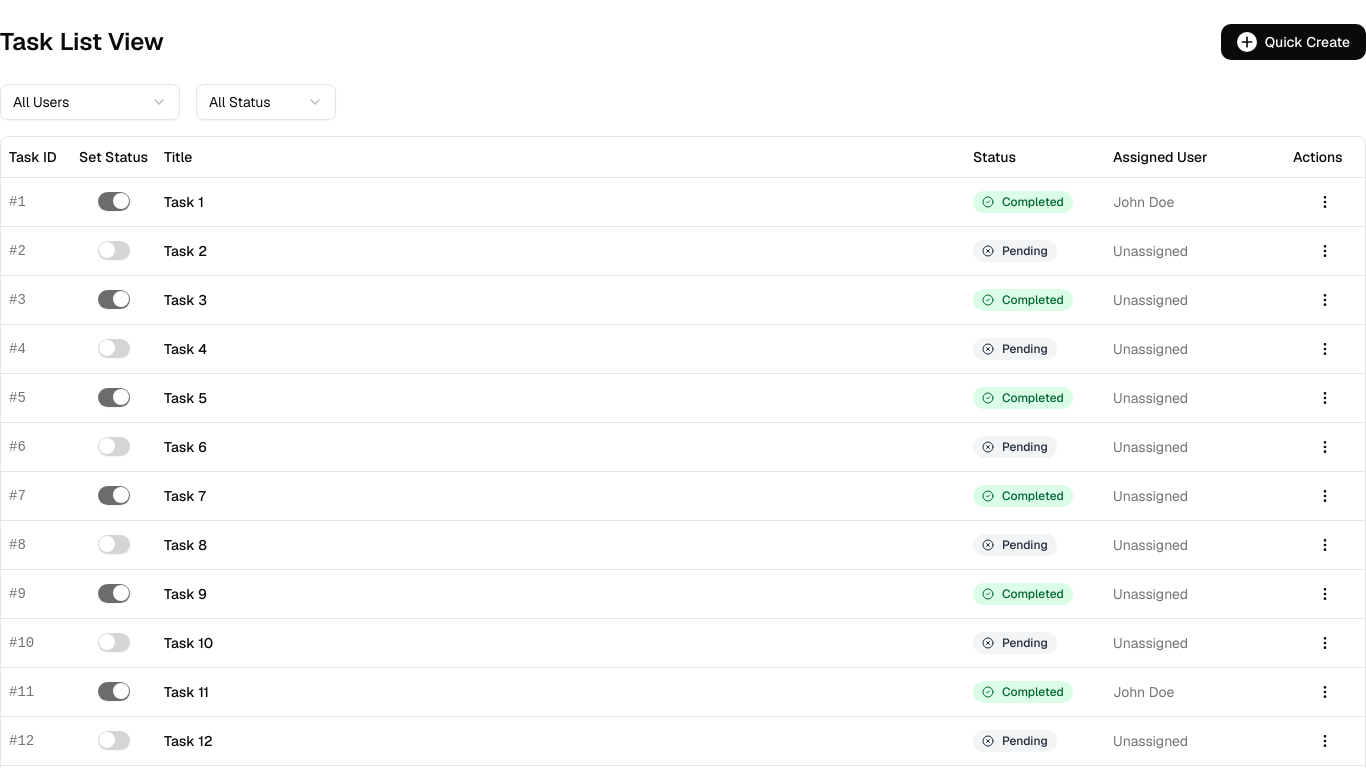
Test: TaskTable › should show delete dialog when delete is clicked
Step 1. Click the button named "Actions for task 1" → {"x": 1325, "y": 202}, box [1309,186,1341,218]
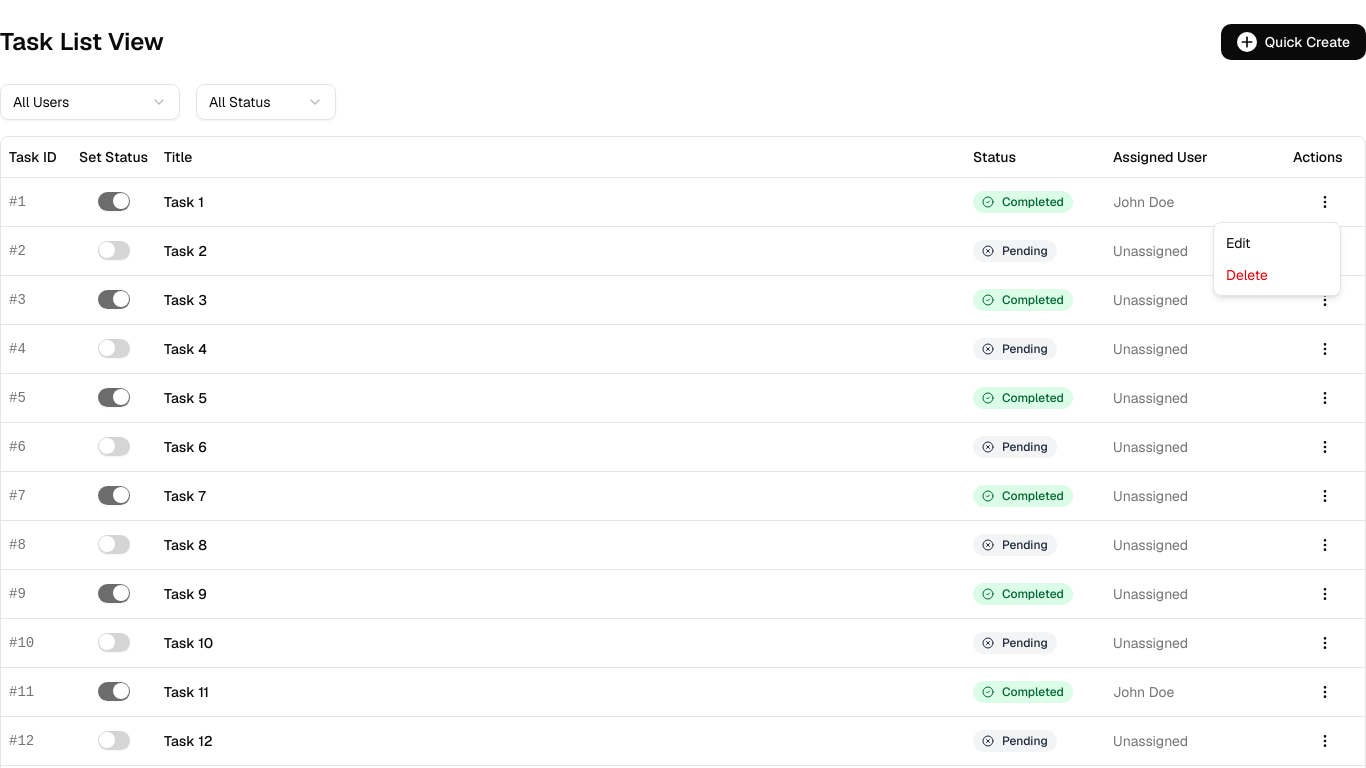
Step 2. Click the menu item "Delete" → {"x": 1247, "y": 275}, box [1226,266,1268,284]
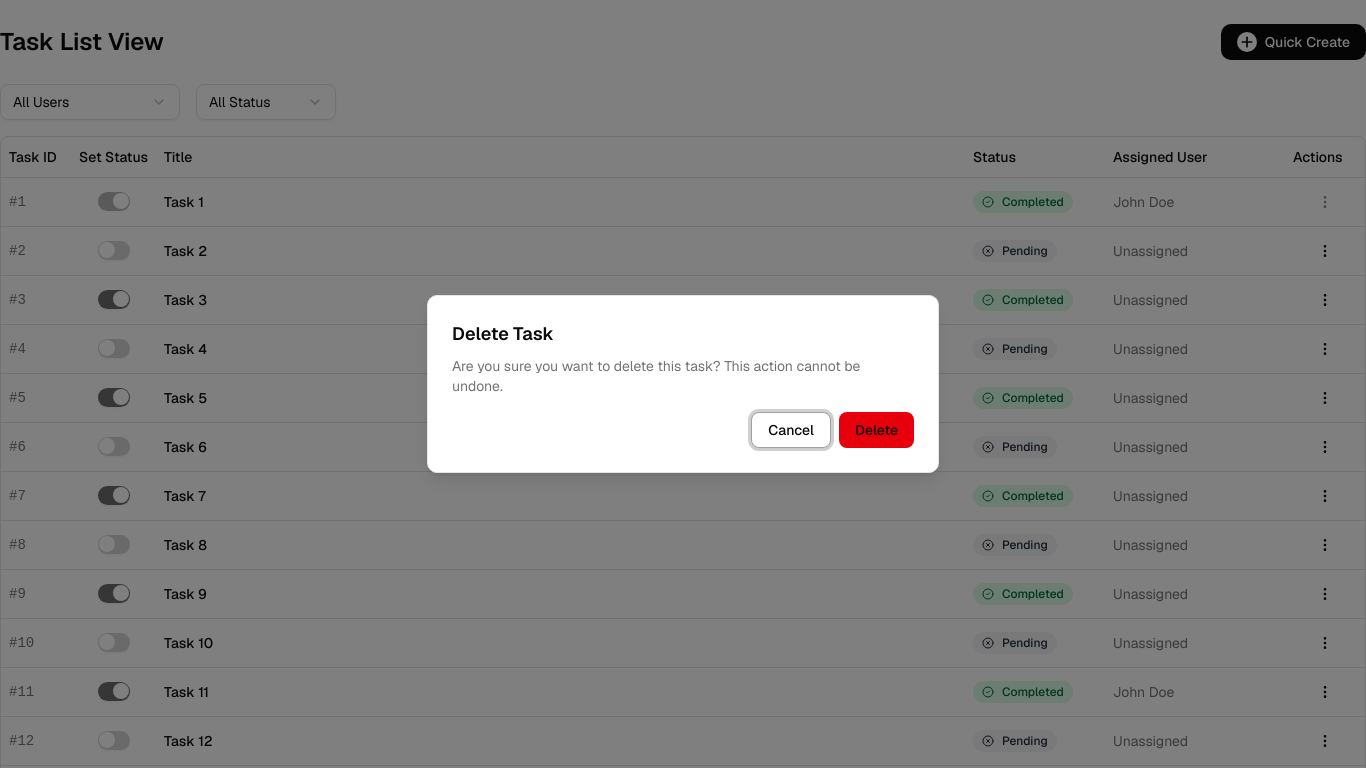
Check: the heading "Delete Task" is shown, box [452,322,554,345]
